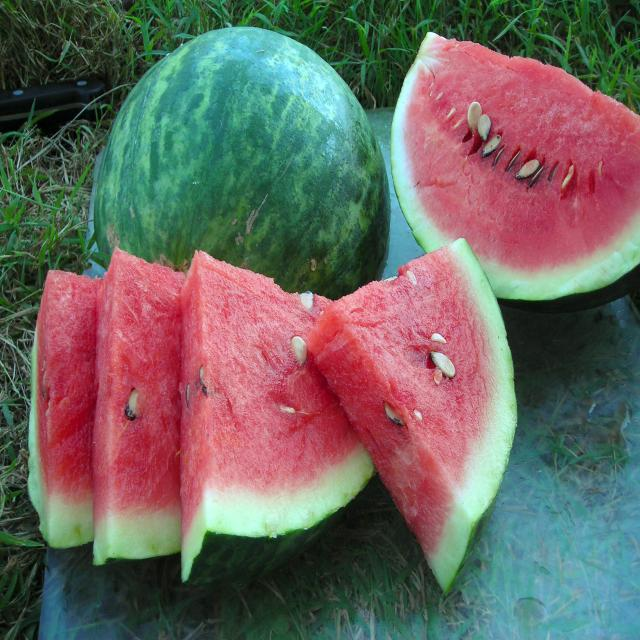Watermelon: (95, 27, 390, 298), (308, 240, 516, 592), (391, 34, 640, 312), (180, 252, 372, 580), (92, 248, 185, 565), (29, 270, 101, 548)
